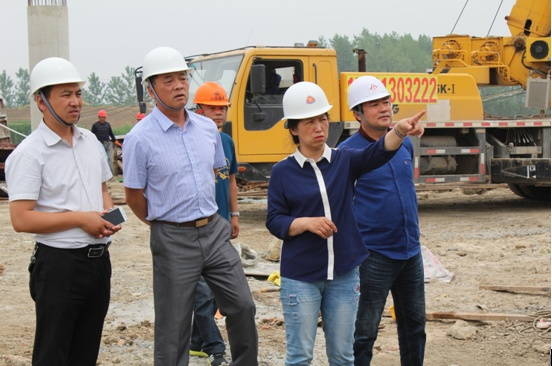red: (95, 107, 108, 123)
white: (28, 55, 86, 129), (278, 78, 332, 150), (142, 46, 190, 111), (346, 76, 397, 132)
yellow: (195, 80, 228, 126)
